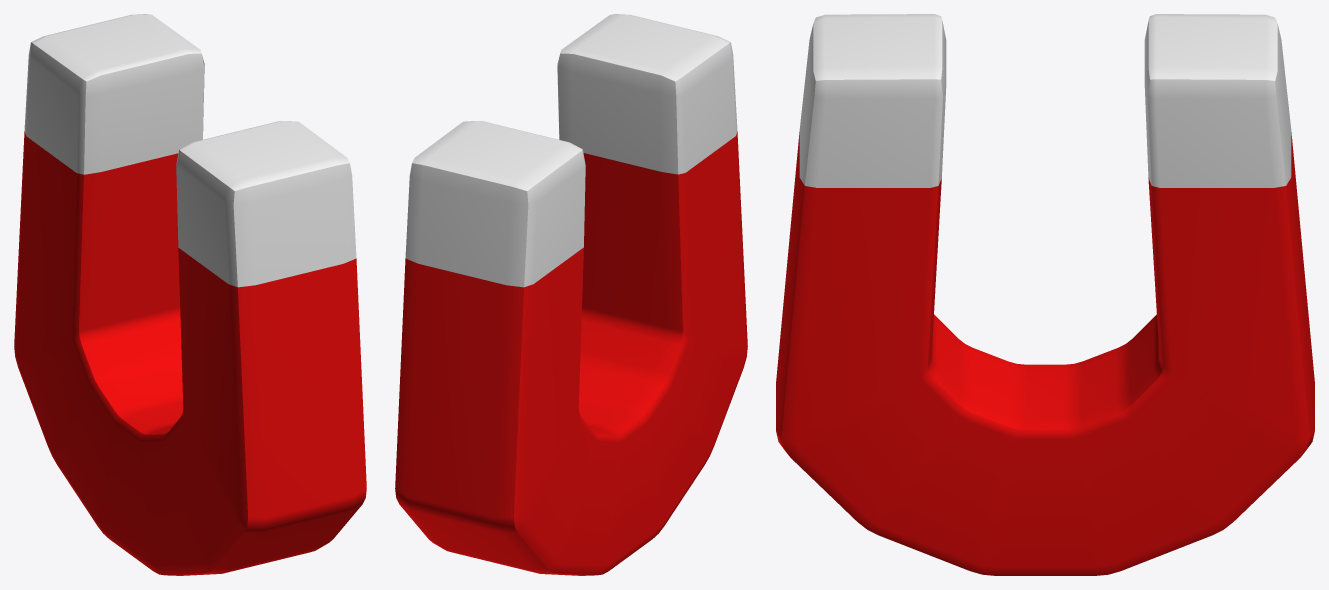
Rendered from magnet_geo.fbx.
3 renders of one model, left to right at view 1: azimuth 30°, elevation 25°; view 2: azimuth 150°, elevation 25°; view 3: azimuth 270°, elevation 25°, orthographic. The views are drawn at different scales.
Parts seen in each view (by area): view 1: magnet; view 2: magnet; view 3: magnet.
Part boxes in pixels (x1,y1,x2,y2): magnet: (14, 14, 366, 575); magnet: (395, 14, 747, 575); magnet: (776, 14, 1314, 575).
Size of the model in its own units: 0.8127 by 2.76 by 2.66.
